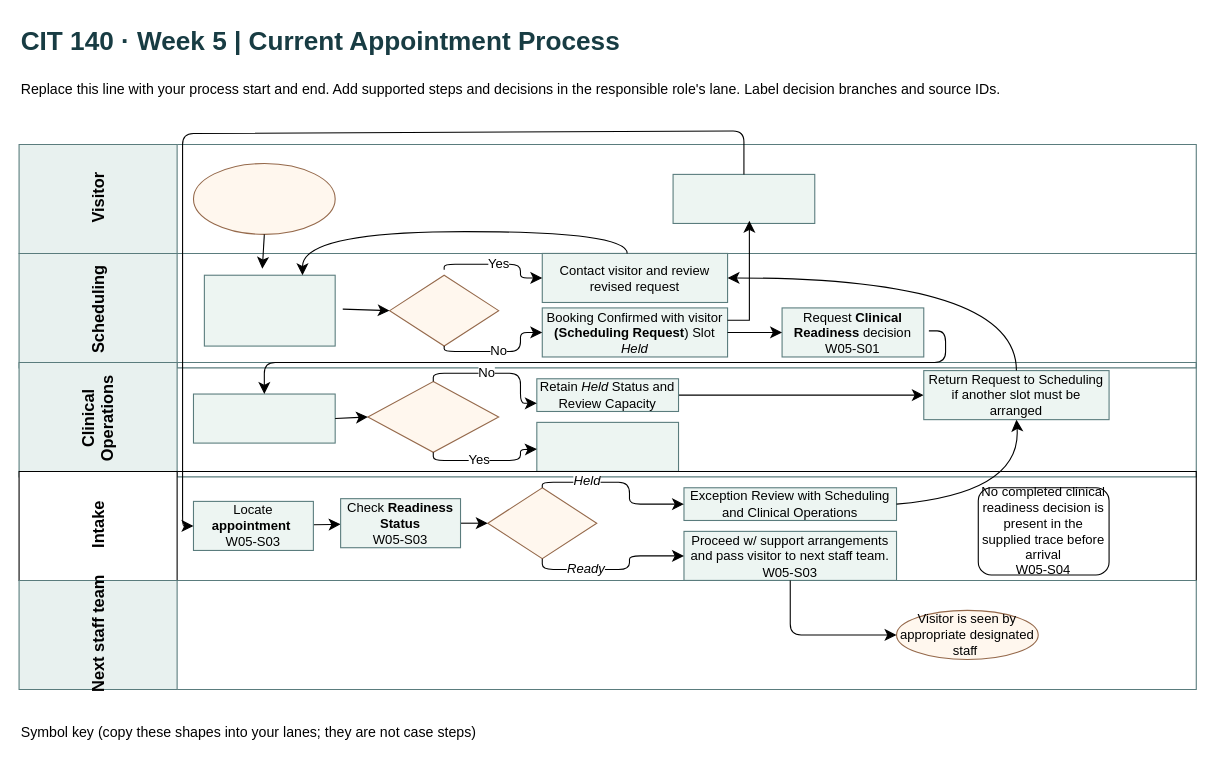
The diagram is 1215 pixels wide and 767 high, and some of its shapes have lost their labels. The shapes that lost their labels are listed below. From the top down, each one's centre as x and y in pixels, then its label:
At [263,198]: "Visitor requests an appointment (Scheduling Request) W05-S01".
At [743,198]: "Visitor Arrives".
At [269,310]: "Record Scheduling Request slot and support preferences W05-S01".
At [444,310]: "Are booking details missing?".
At [263,418]: "Receive Scheduling Request W05-S02".
At [433,416]: "Clinical Readiness : Room AND Clinician available?".
At [607,446]: "Confirm and record Clinical Readiness ( Ready )".
At [542,523]: "Clinical Readiness?".
